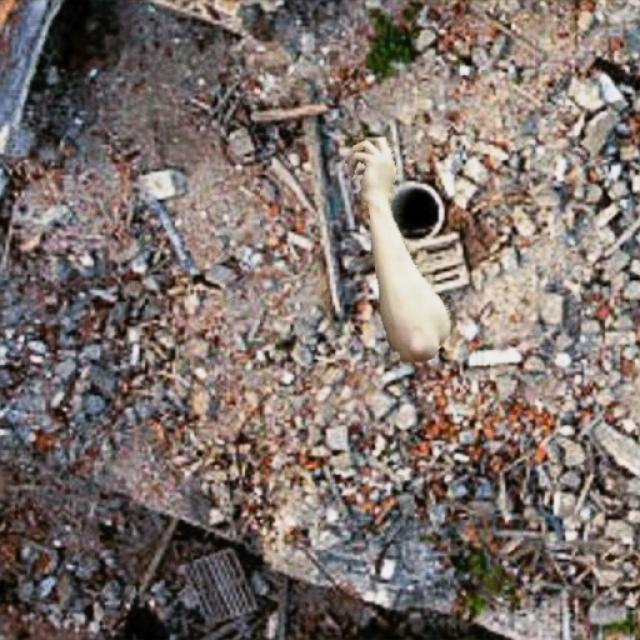Person in Rubble: (345, 138, 451, 362)
